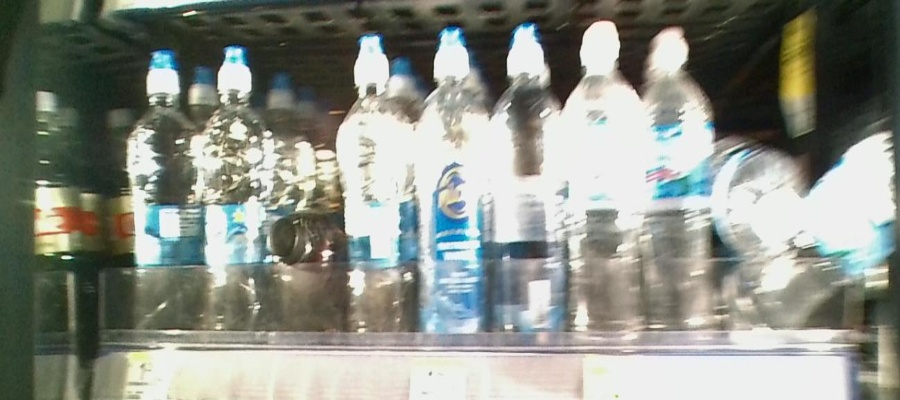bottle: (564, 22, 644, 355), (344, 39, 416, 348), (647, 29, 716, 344), (421, 31, 487, 350), (493, 29, 559, 347), (126, 53, 197, 347), (201, 45, 266, 347), (271, 200, 337, 324)
